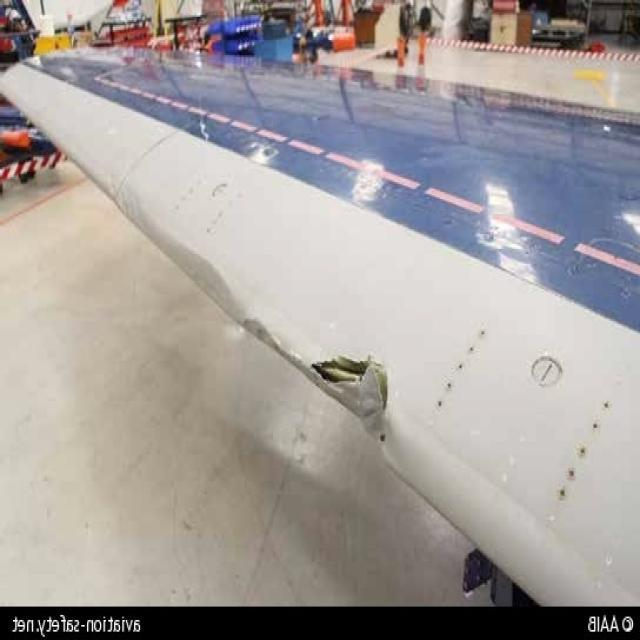crack: (300, 355, 405, 457)
dent: (166, 245, 249, 330)
